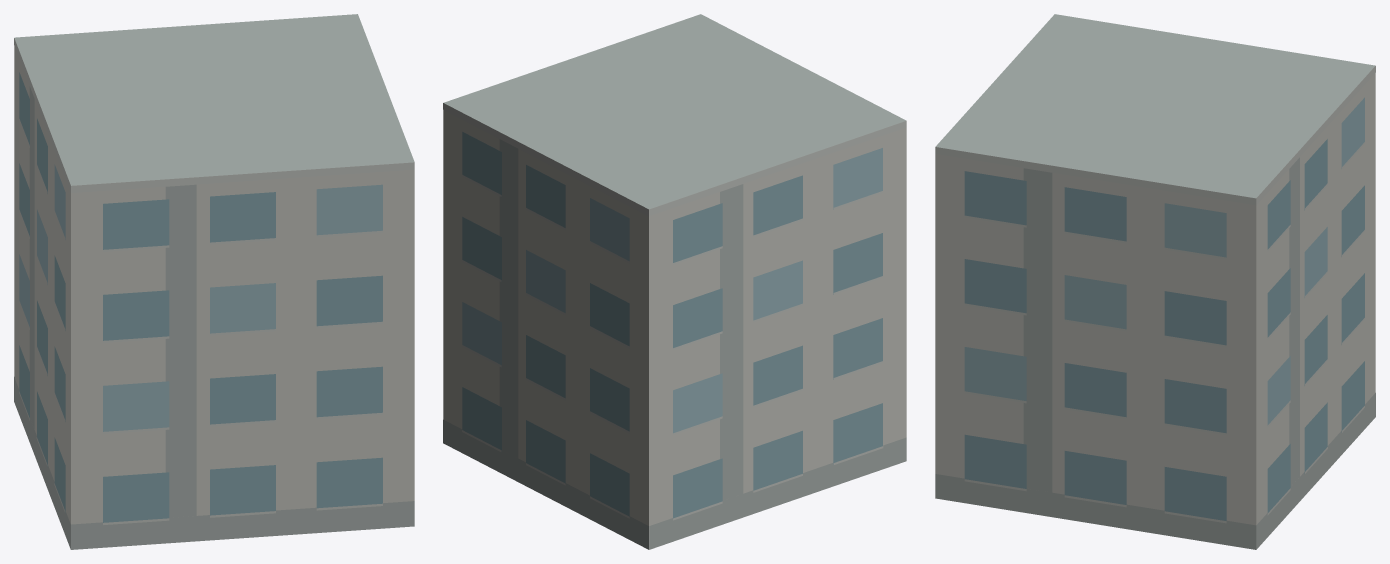
The model's file is residential-d865a095-32d6-4d3b-9b1a-3ada330fae3f.glb.
The picture shows the model from 3 angles, left to right: view 1: azimuth 30°, elevation 25°; view 2: azimuth 150°, elevation 25°; view 3: azimuth 270°, elevation 25°; orthographic projection. The views are drawn at different scales.
Parts seen in each view (by area): view 1: residential-d865a095-32d6-4d3b-9b1a-3ada330fae3f.tmp; view 2: residential-d865a095-32d6-4d3b-9b1a-3ada330fae3f.tmp; view 3: residential-d865a095-32d6-4d3b-9b1a-3ada330fae3f.tmp.
Part boxes in pixels (x1,y1,x2,y2): residential-d865a095-32d6-4d3b-9b1a-3ada330fae3f.tmp: (14,14,414,549); residential-d865a095-32d6-4d3b-9b1a-3ada330fae3f.tmp: (443,14,906,549); residential-d865a095-32d6-4d3b-9b1a-3ada330fae3f.tmp: (935,14,1375,549).
Bounding box in the file's own units: 13.51 × 12 × 13.64.
